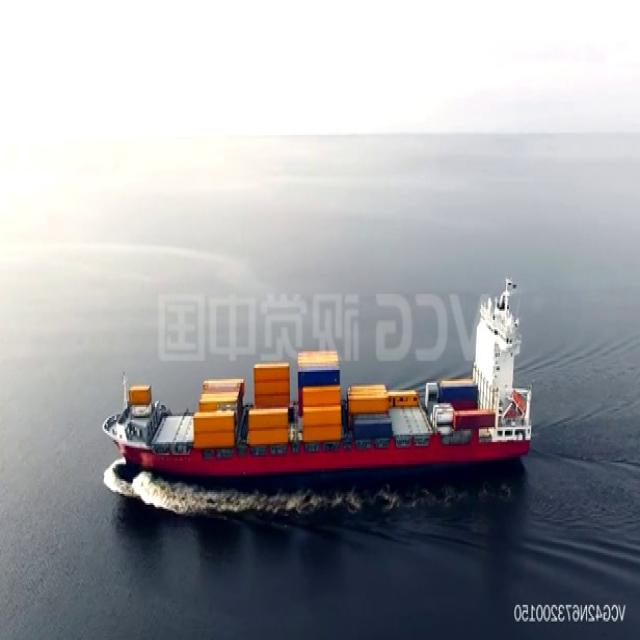cargoship: (105, 276, 536, 478)
